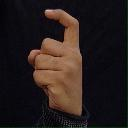hand: (27, 8, 83, 116)
